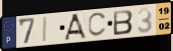3: (136, 7, 154, 34)
7: (17, 17, 37, 45)
A: (63, 13, 88, 42)
B: (112, 9, 135, 36)
C: (87, 11, 108, 38)
I: (41, 15, 49, 43)
